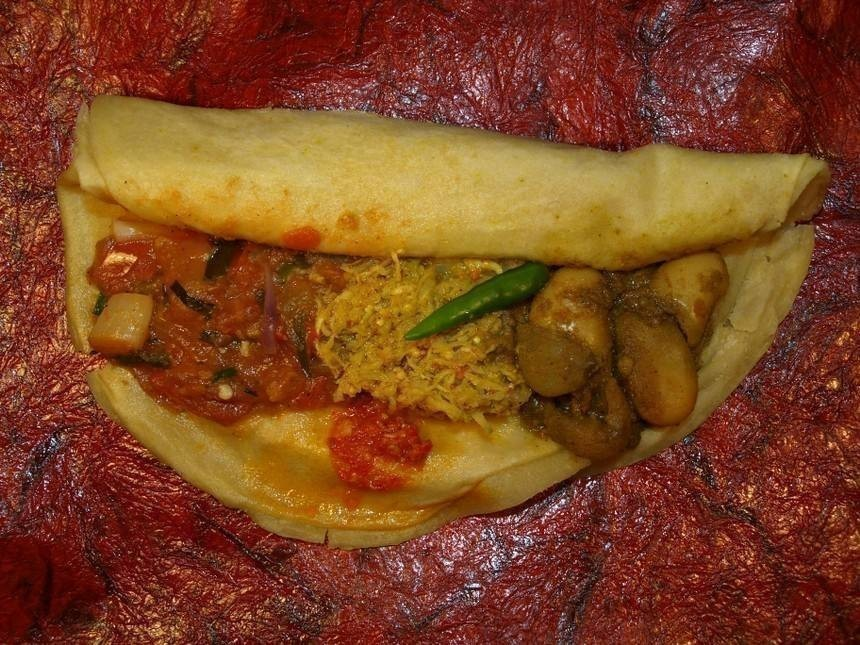Farata: (47, 56, 815, 497)
